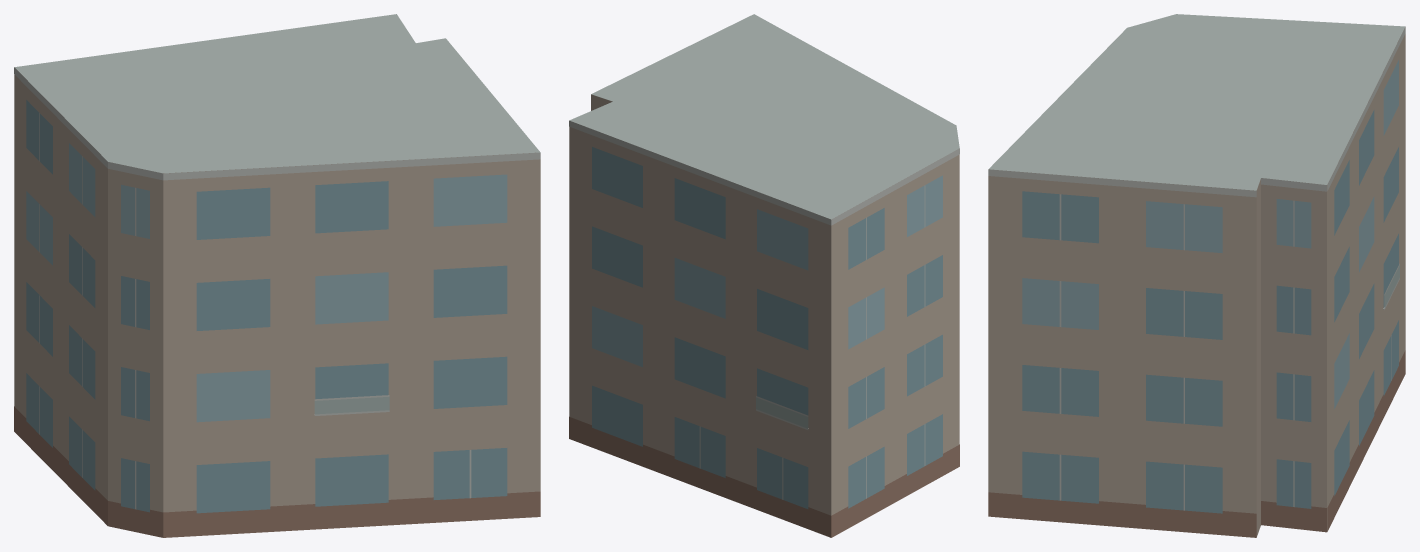
Rendered from survey-upis-32812903.glb.
3 views of the same model, side by side, from view 1: azimuth 30°, elevation 25°; view 2: azimuth 150°, elevation 25°; view 3: azimuth 270°, elevation 25° (orthographic). The views are drawn at different scales.
Visible parts, largest first — view 1: survey-upis-32812903.tmp; view 2: survey-upis-32812903.tmp; view 3: survey-upis-32812903.tmp.
Part boxes in pixels (x1,y1,x2,y2): survey-upis-32812903.tmp: (14,14,540,537); survey-upis-32812903.tmp: (569,14,959,537); survey-upis-32812903.tmp: (988,14,1405,537).
Size of the model in its own units: 13.92 by 12.75 by 13.9.
